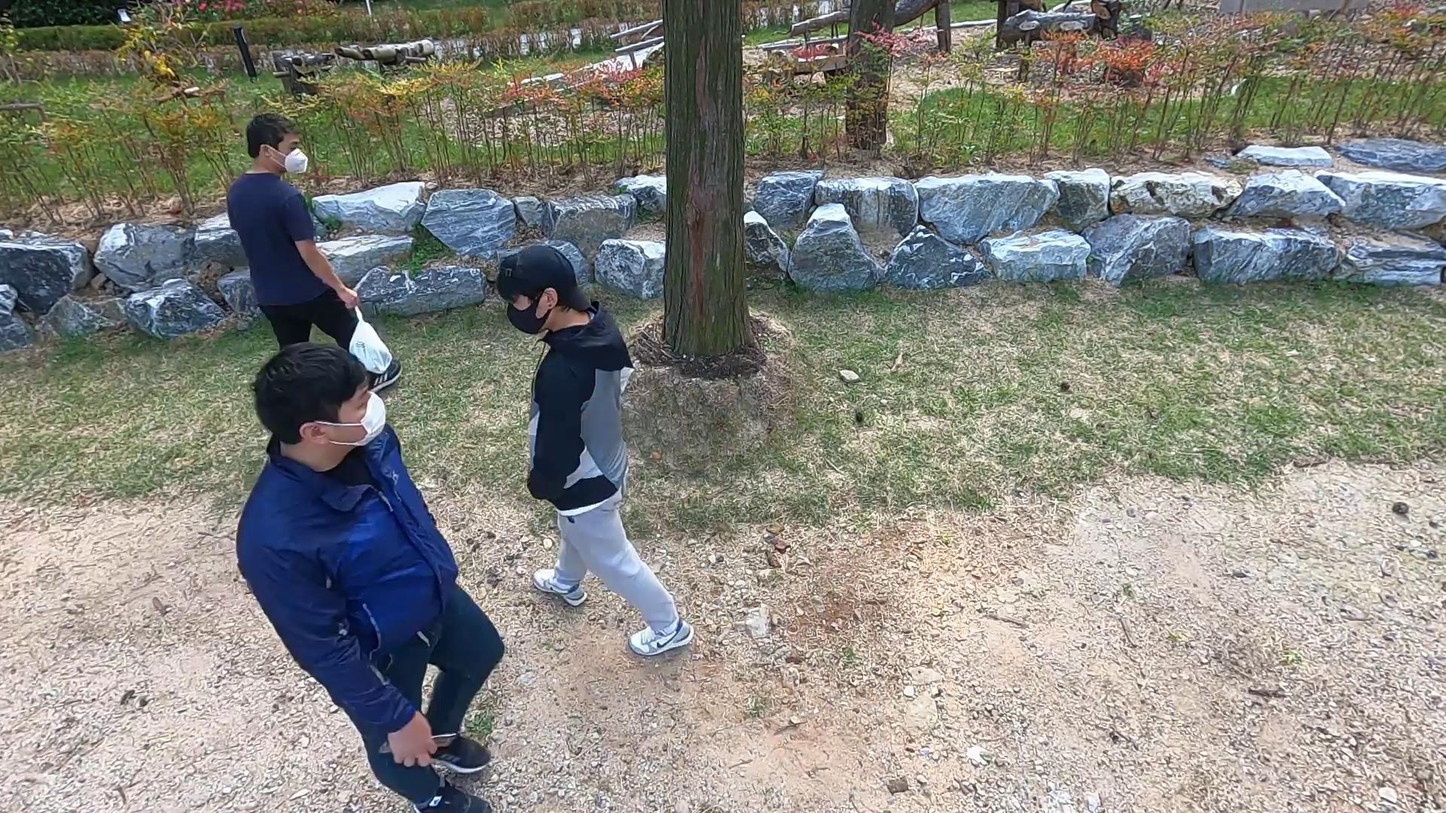person: (231, 344, 504, 813), (499, 240, 697, 655), (223, 110, 404, 399)
trash: (346, 304, 393, 376)
